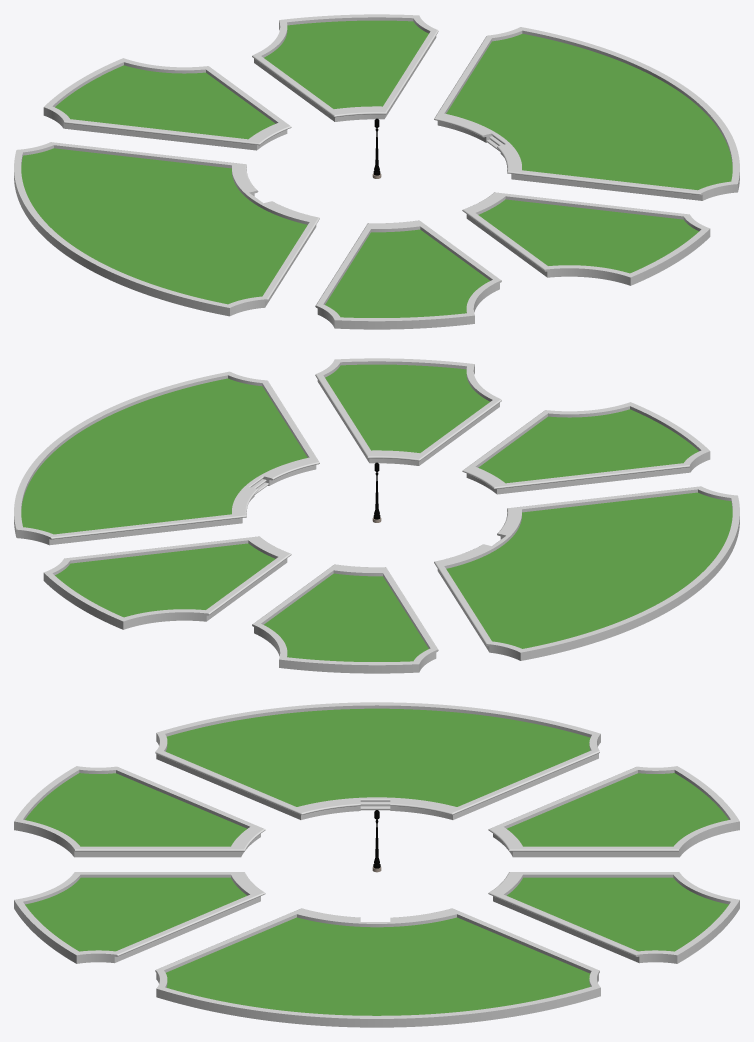
File: connect.fbx
The picture shows the model from 3 angles, top to bottom: view 1: azimuth 30°, elevation 25°; view 2: azimuth 150°, elevation 25°; view 3: azimuth 270°, elevation 25°; orthographic projection. The views are drawn at different scales.
Visible parts, largest first — view 1: 物件_12, 物件_7, 物件_4, 物件_6, 物件_2, 物件_11, 物件_13, 物件_8, 物件_1, 物件_10, 物件_5, 物件_3; view 2: 物件_7, 物件_12, 物件_2, 物件_11, 物件_4, 物件_6, 物件_13, 物件_8, 物件_3, 物件_5, 物件_10, 物件_1; view 3: 物件_12, 物件_7, 物件_2, 物件_4, 物件_6, 物件_11, 物件_8, 物件_13, 物件_5, 物件_10, 物件_1, 物件_3.
Part boxes in pixels (left/top/right/bottom): 物件_12: left=21, top=148, right=307, bottom=304; 物件_7: left=446, top=33, right=732, bottom=190; 物件_4: left=264, top=20, right=428, bottom=108; 物件_6: left=325, top=229, right=489, bottom=317; 物件_2: left=478, top=199, right=698, bottom=273; 物件_11: left=55, top=65, right=275, bottom=139; 物件_13: left=14, top=142, right=319, bottom=316; 物件_8: left=434, top=27, right=739, bottom=200; 物件_1: left=462, top=192, right=710, bottom=285; 物件_10: left=43, top=58, right=291, bottom=150; 物件_5: left=315, top=220, right=501, bottom=329; 物件_3: left=252, top=14, right=438, bottom=121; 物件_7: left=21, top=378, right=307, bottom=534; 物件_12: left=446, top=492, right=732, bottom=648; 物件_2: left=325, top=364, right=489, bottom=452; 物件_11: left=264, top=573, right=428, bottom=661; 物件_4: left=55, top=543, right=275, bottom=617; 物件_6: left=478, top=409, right=698, bottom=483; 物件_13: left=434, top=486, right=739, bottom=660; 物件_8: left=14, top=371, right=319, bottom=545; 物件_3: left=43, top=536, right=291, bottom=629; 物件_5: left=462, top=402, right=710, bottom=494; 物件_10: left=252, top=564, right=438, bottom=673; 物件_1: left=315, top=358, right=501, bottom=465; 物件_12: left=166, top=708, right=590, bottom=806; 物件_7: left=166, top=917, right=590, bottom=1015; 物件_2: left=25, top=877, right=246, bottom=951; 物件_4: left=507, top=877, right=728, bottom=951; 物件_6: left=25, top=773, right=247, bottom=846; 物件_11: left=506, top=773, right=728, bottom=846; 物件_8: left=155, top=908, right=600, bottom=1027; 物件_13: left=155, top=702, right=600, bottom=819; 物件_5: left=14, top=766, right=265, bottom=857; 物件_10: left=488, top=766, right=739, bottom=857; 物件_1: left=14, top=872, right=265, bottom=963; 物件_3: left=488, top=872, right=739, bottom=963.
Bounding box in the file's own units: 5019 × 4863 × 444.
